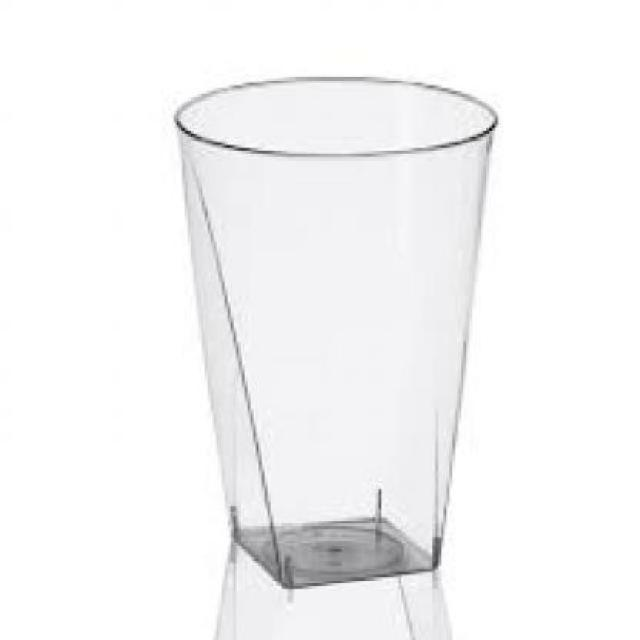kaca: (171, 74, 495, 586)
